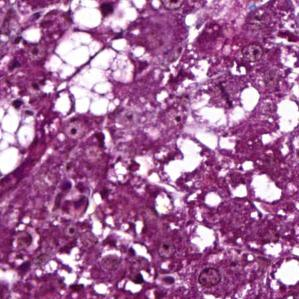ballooning: (42, 28, 137, 117), (0, 93, 39, 180), (66, 0, 153, 33)
